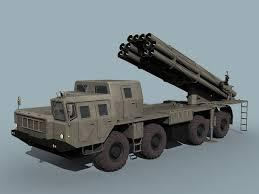MIL_SAM_TEL: (13, 30, 251, 171)
